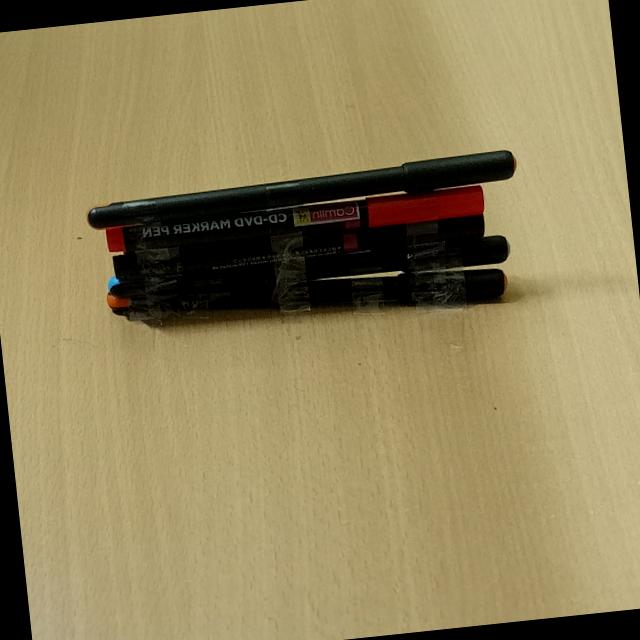marker: (86, 182, 504, 258)
pen: (73, 115, 542, 237)
